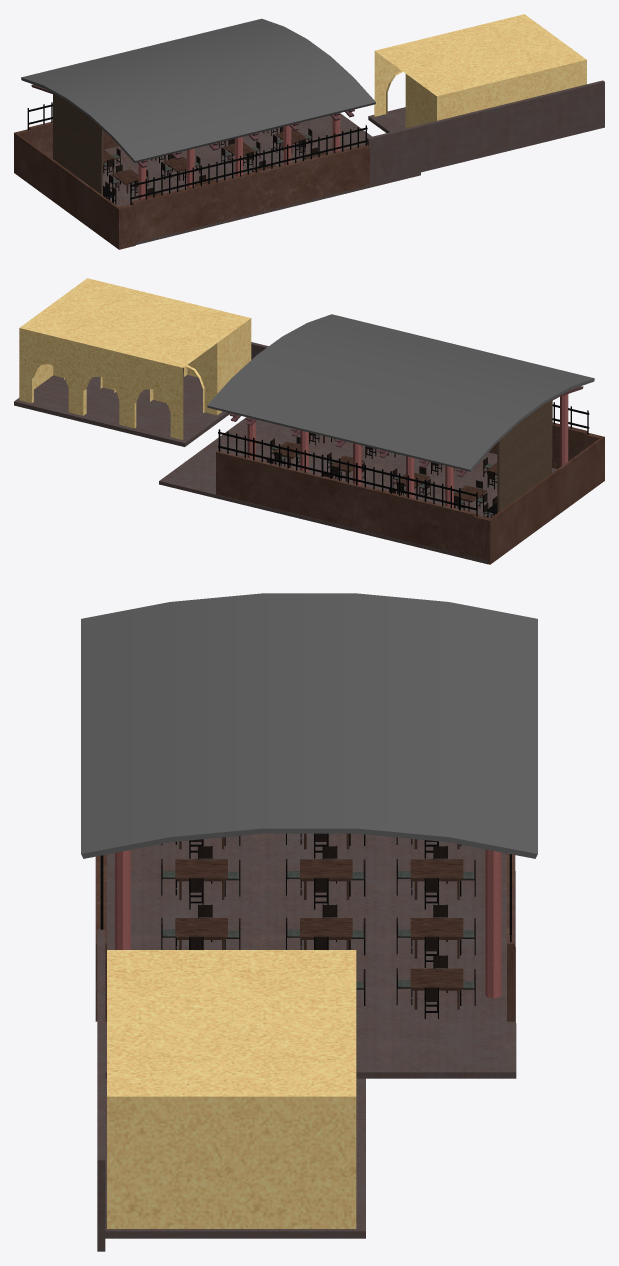
Rendered from Chiya_Chautari.glb.
3 views of the same model, one above another, from view 1: azimuth 30°, elevation 25°; view 2: azimuth 150°, elevation 25°; view 3: azimuth 270°, elevation 25° (orthographic). The views are drawn at different scales.
Visible parts, largest first — view 1: polySurface536; view 2: polySurface536; view 3: polySurface536.
Part boxes in pixels (box(x1,y1,x2,y2)): polySurface536: box(14, 14, 604, 249); polySurface536: box(14, 278, 604, 564); polySurface536: box(81, 593, 537, 1251).
Bounding box in the file's own units: 29.65 × 5.88 × 12.06.
Materials: 12 (11 with a texture image).
